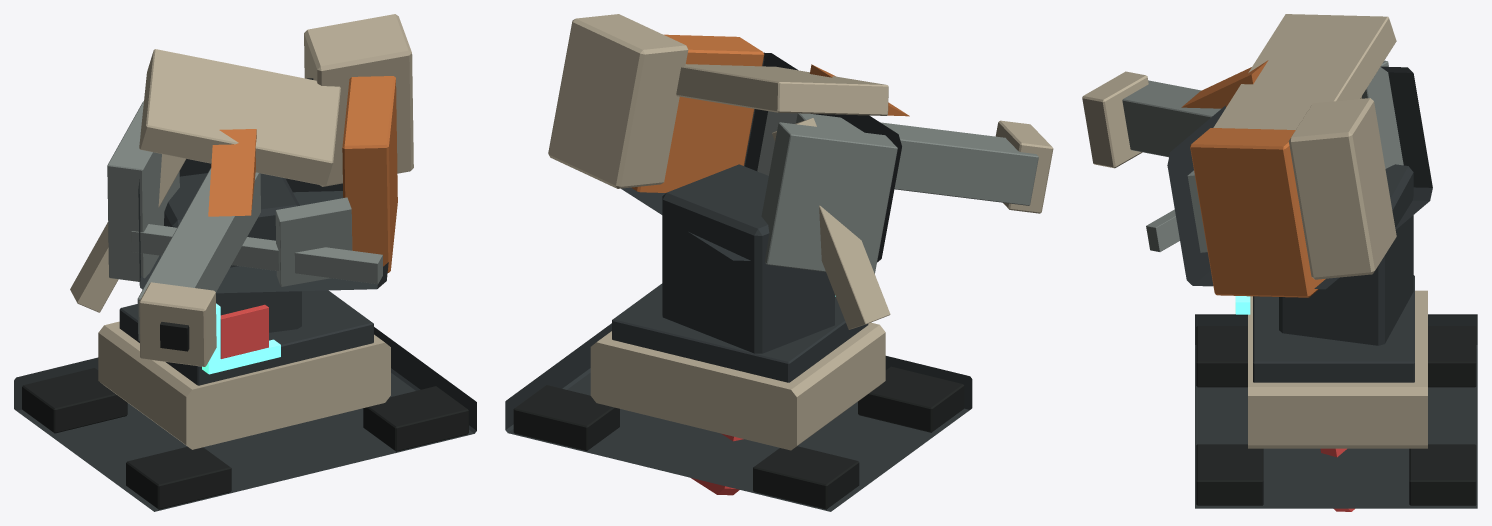
File: critical.glb
3 views of the same model, side by side, from view 1: azimuth 30°, elevation 25°; view 2: azimuth 150°, elevation 25°; view 3: azimuth 270°, elevation 25° (orthographic). The views are drawn at different scales.
Visible parts, largest first — view 1: ROLE_secondary, ROLE_primary, ROLE_bareMetal, ROLE_rubber, ROLE_accent, ROLE_critical, ROLE_interaction; view 2: ROLE_secondary, ROLE_primary, ROLE_bareMetal, ROLE_rubber, ROLE_accent; view 3: ROLE_secondary, ROLE_primary, ROLE_accent, ROLE_rubber, ROLE_bareMetal.
Boxes of the visible parts, x1=… form: ROLE_secondary: x1=70, y1=14, x2=413, y2=449; ROLE_primary: x1=14, y1=78, x2=476, y2=511; ROLE_bareMetal: x1=107, y1=101, x2=382, y2=341; ROLE_rubber: x1=22, y1=322, x2=468, y2=509; ROLE_accent: x1=208, y1=76, x2=397, y2=272; ROLE_critical: x1=220, y1=304, x2=268, y2=358; ROLE_interaction: x1=202, y1=303, x2=280, y2=374; ROLE_secondary: x1=548, y1=14, x2=1053, y2=450; ROLE_primary: x1=505, y1=52, x2=972, y2=511; ROLE_bareMetal: x1=757, y1=111, x2=1038, y2=273; ROLE_rubber: x1=513, y1=366, x2=964, y2=509; ROLE_accent: x1=631, y1=34, x2=909, y2=192; ROLE_secondary: x1=1082, y1=14, x2=1427, y2=448; ROLE_primary: x1=1167, y1=66, x2=1477, y2=508; ROLE_accent: x1=1181, y1=60, x2=1325, y2=297; ROLE_rubber: x1=1196, y1=326, x2=1476, y2=505; ROLE_bareMetal: x1=1122, y1=60, x2=1403, y2=252.
Bounding box in the file's own units: 4.8 × 5.17 × 4.22.
